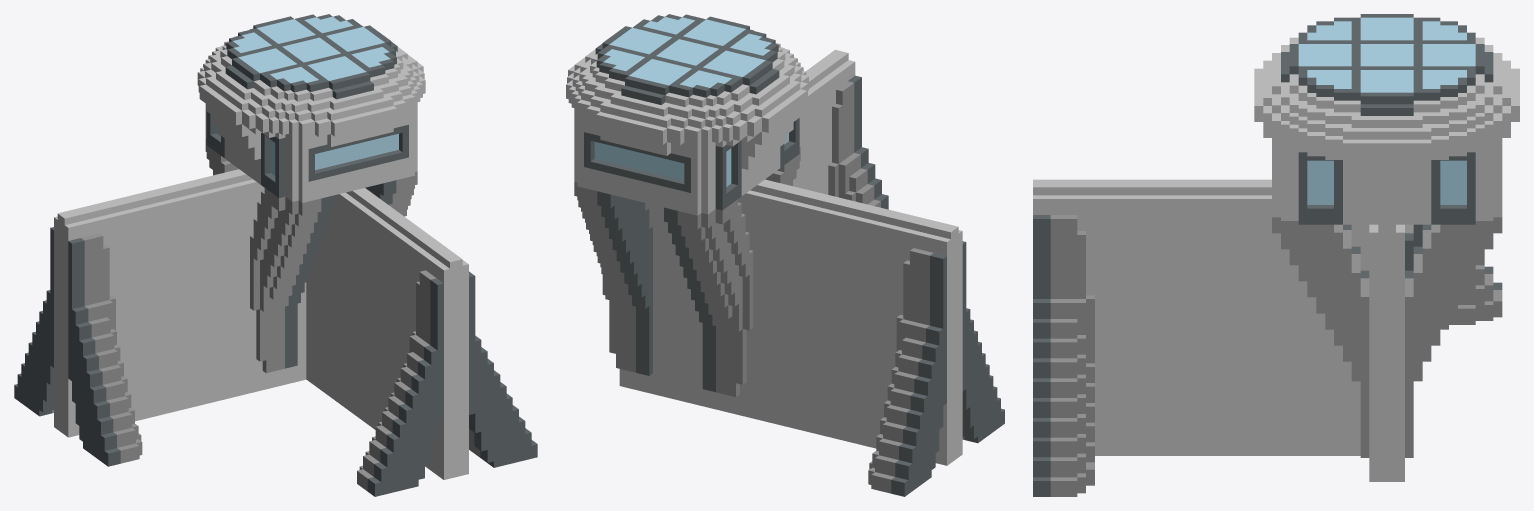
The model's file is wall4_corner.obj.
3 renders of one model, left to right at view 1: azimuth 30°, elevation 25°; view 2: azimuth 150°, elevation 25°; view 3: azimuth 270°, elevation 25°, orthographic. The views are drawn at different scales.
Size of the model in its own units: 5.5 by 4.9 by 5.5.
Materials: 1 (1 with a texture image).
